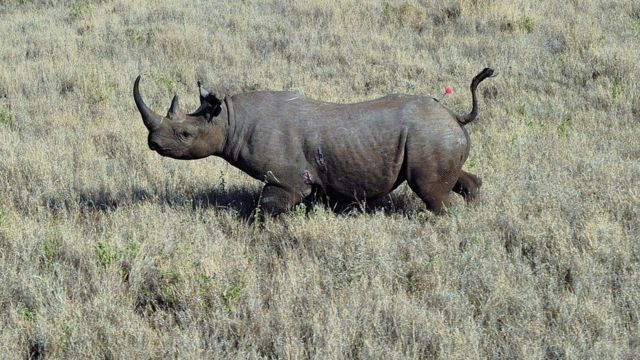Rhinoceros: (120, 57, 522, 230)
